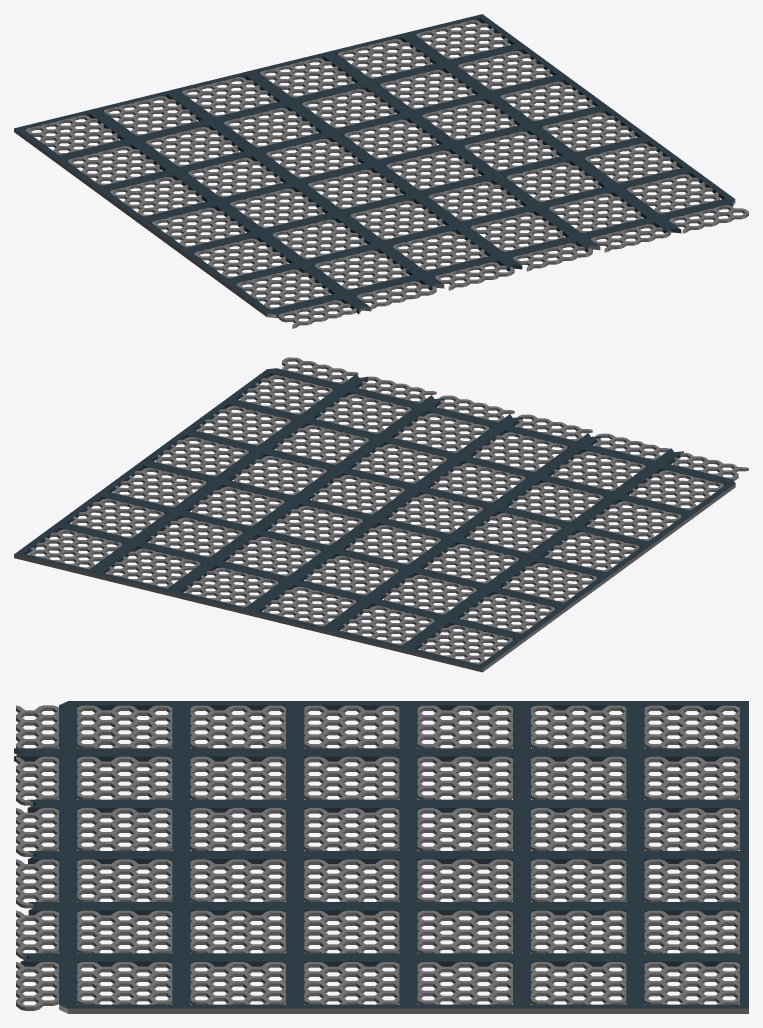
File: Level1MeshFloor.fbx
3 renders of one model, top to bottom at view 1: azimuth 30°, elevation 25°; view 2: azimuth 150°, elevation 25°; view 3: azimuth 270°, elevation 25°, orthographic. The views are drawn at different scales.
Parts seen in each view (by area): view 1: Cube.032; view 2: Cube.032; view 3: Cube.032.
Part boxes in pixels (x1,y1,x2,y2): Cube.032: [14, 14, 748, 328]; Cube.032: [14, 357, 748, 672]; Cube.032: [14, 701, 748, 1013].
Bounding box in the file's own units: 5434 × 41.31 × 5486.
